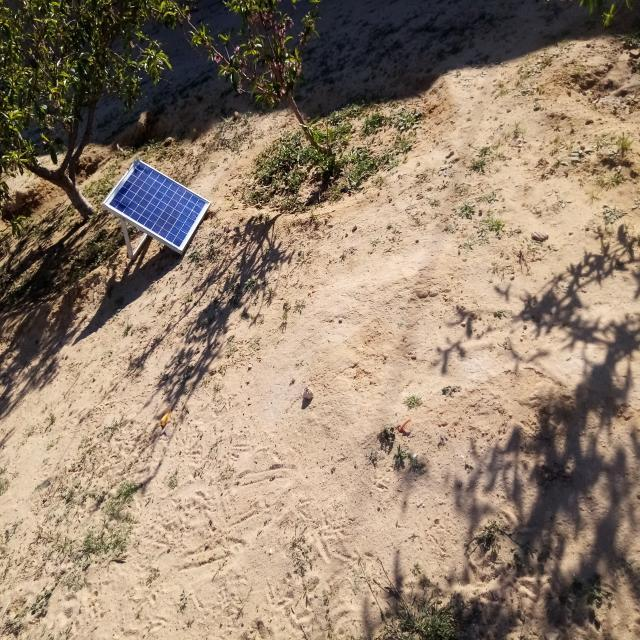no faulty: (103, 158, 210, 250)
